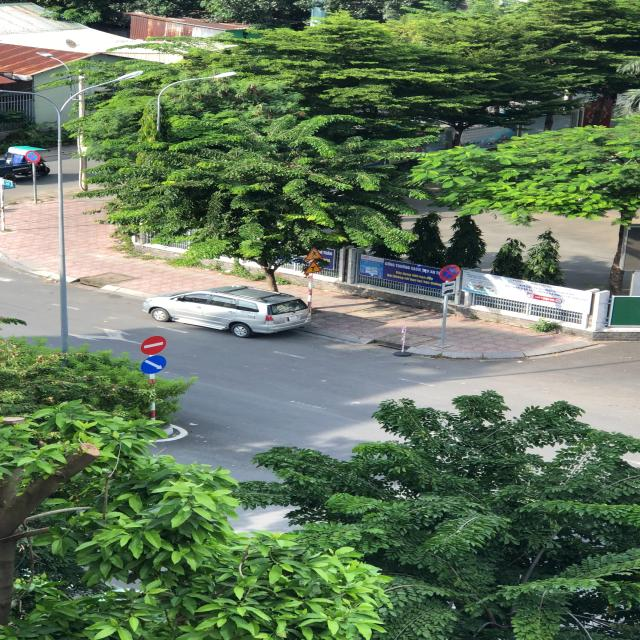Bien bao cam di nguoc chieu: (136, 334, 173, 354)
Bien bao cam dung xe va do xe: (438, 264, 463, 281)
Bien bao duong giao nhau: (301, 261, 323, 274)
Bien bao duong nguoi di bo cat ngang: (304, 247, 326, 260)
Bien bao huong phai di vong chuong ngai vat: (140, 355, 172, 374)
